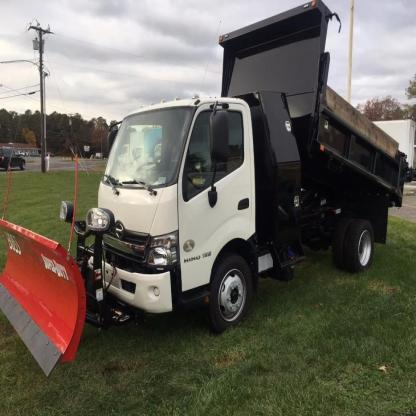dump_truck: (19, 14, 410, 367)
